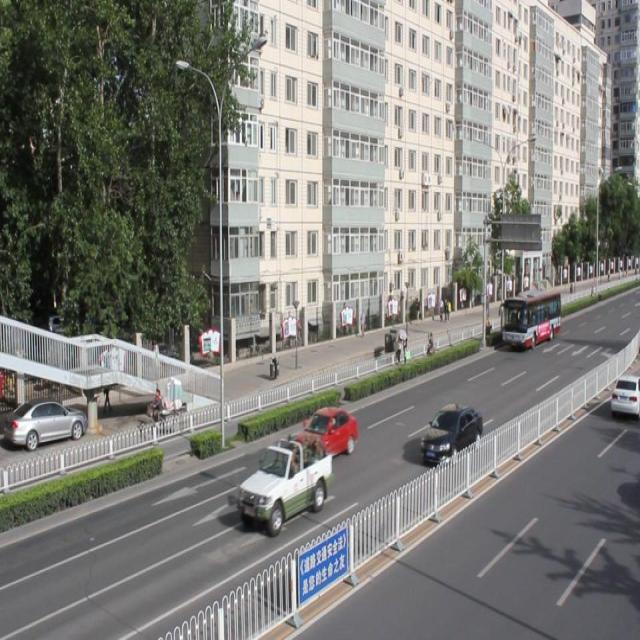car: (238, 435, 332, 532), (420, 402, 483, 464), (290, 404, 357, 459), (610, 373, 640, 418)
